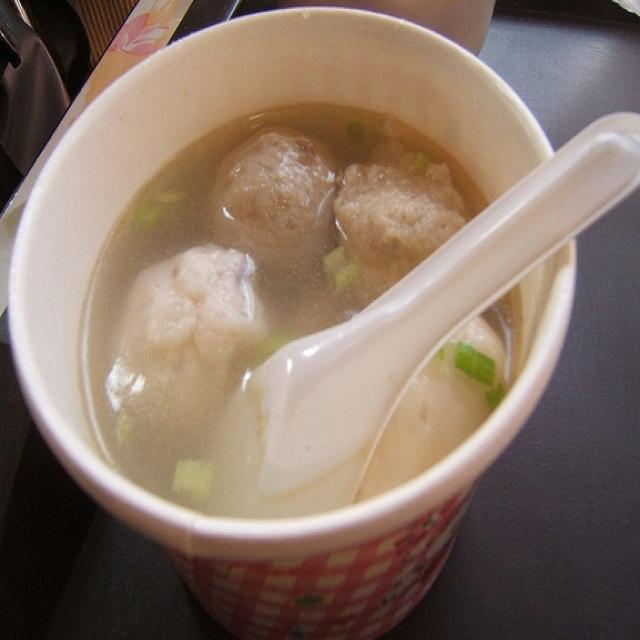熟制海鲜: (11, 11, 576, 546)
